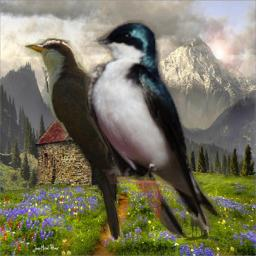Cuckoo: (24, 38, 127, 245)
Swallow: (84, 19, 219, 238)
